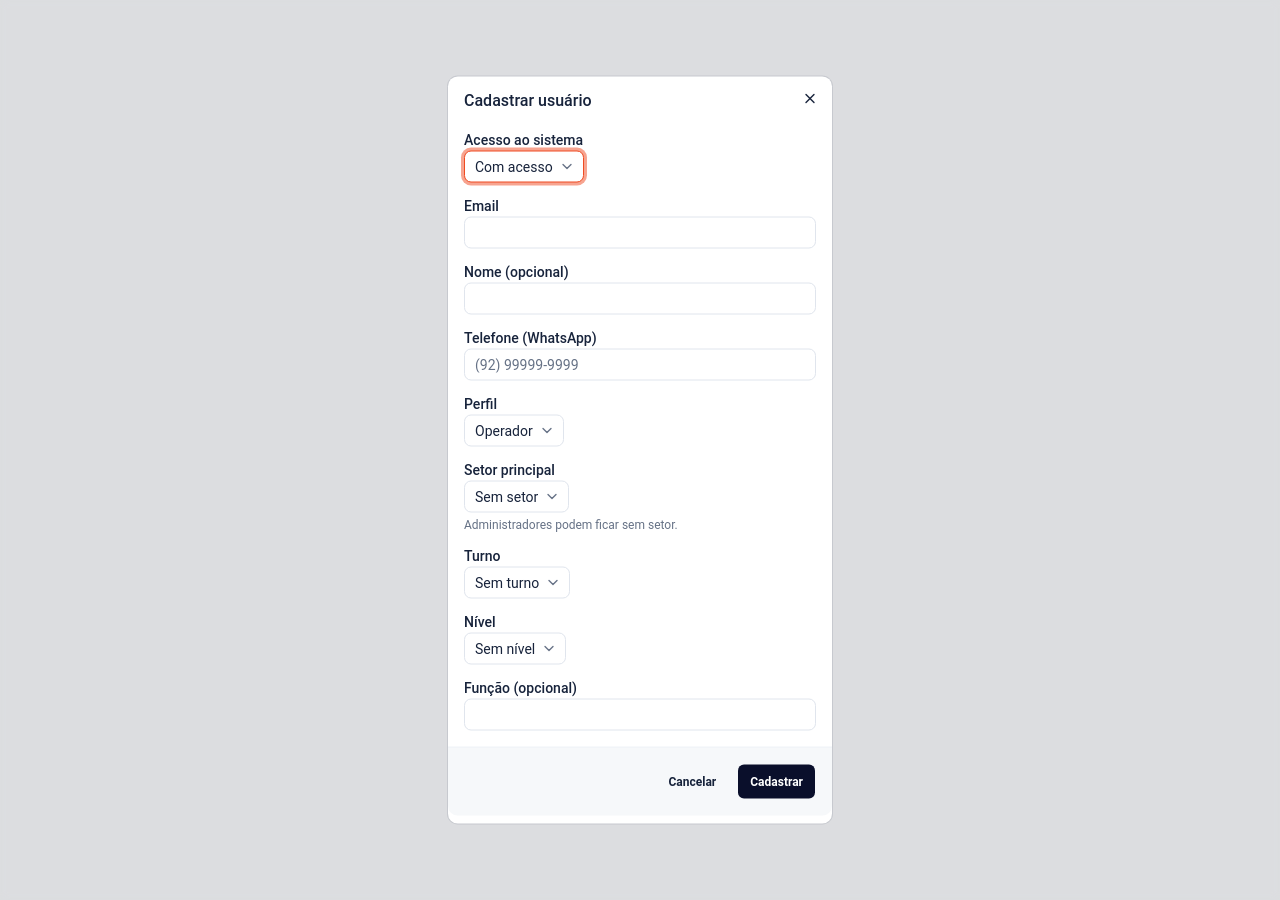
it: InviteUserDialog phone › shows phone_taken next to the phone field
This screenshot has width=1280, height=900.
Type "admin@x.com" into the field labelled "Email". click: (640, 232)
box: [464,216,816,248]
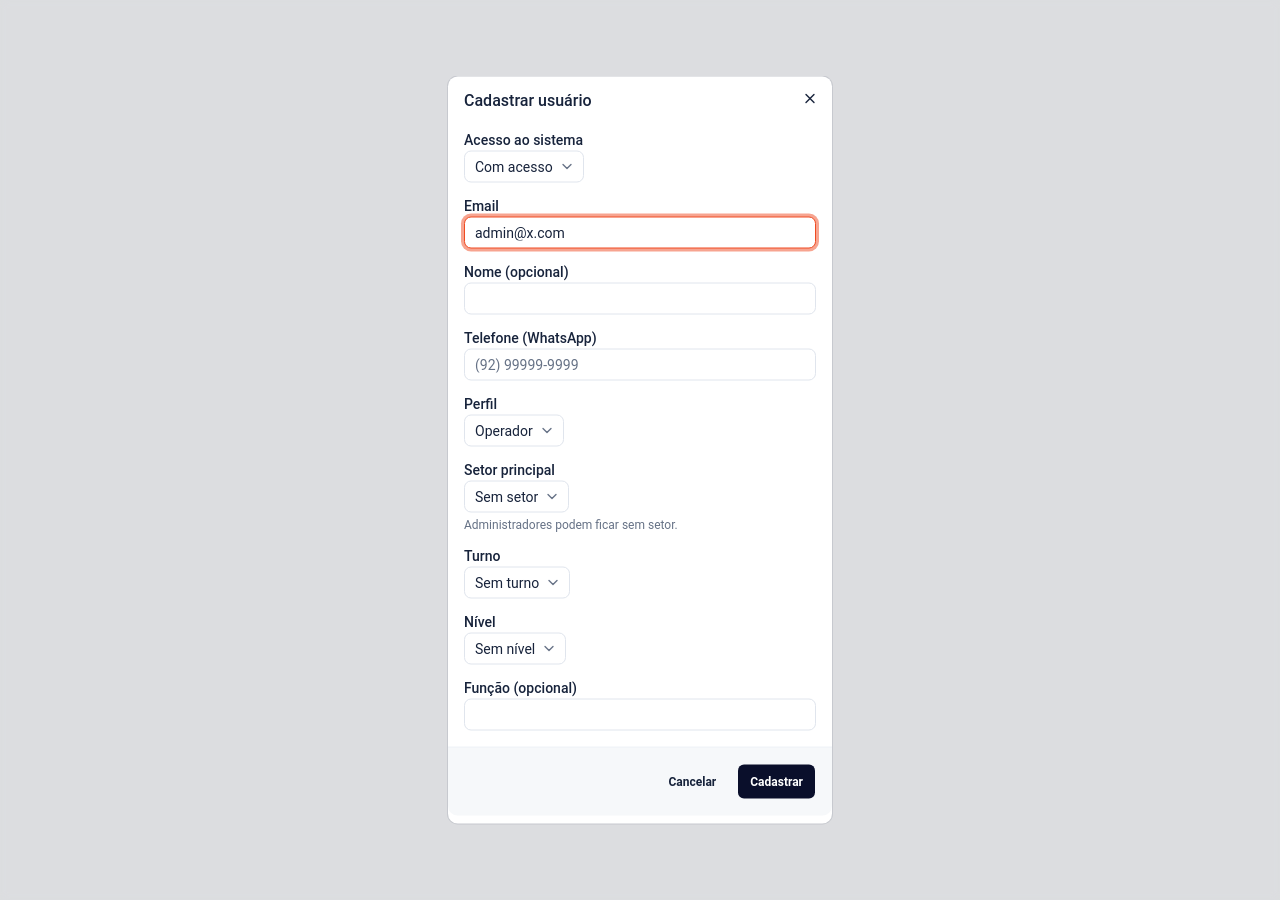
Type "92 99123-4567" into the field labelled "Telefone (WhatsApp)". click: (640, 364)
box: [464,348,816,380]
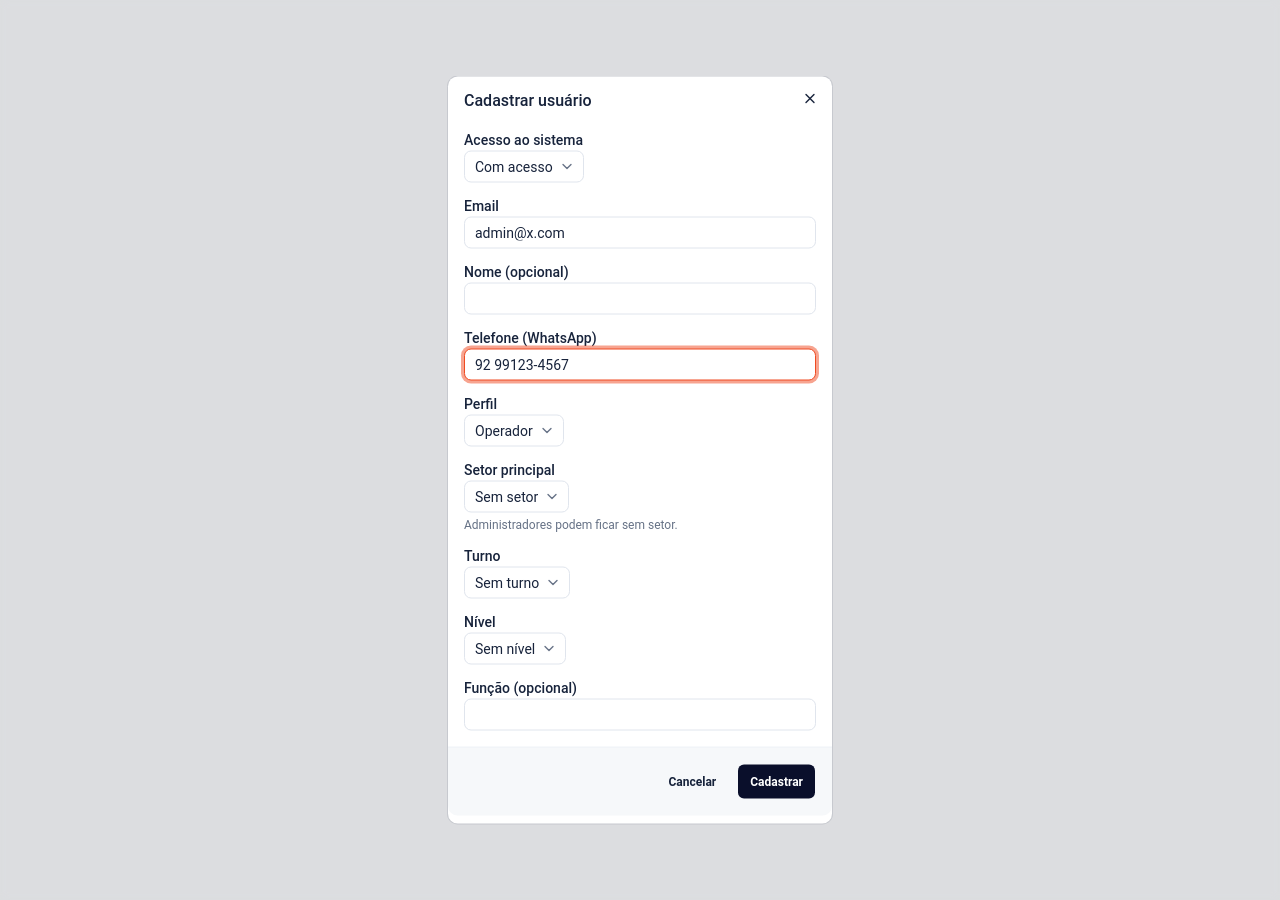
Click the dropdown named "Perfil". click: (514, 430)
box: [464,414,564,446]
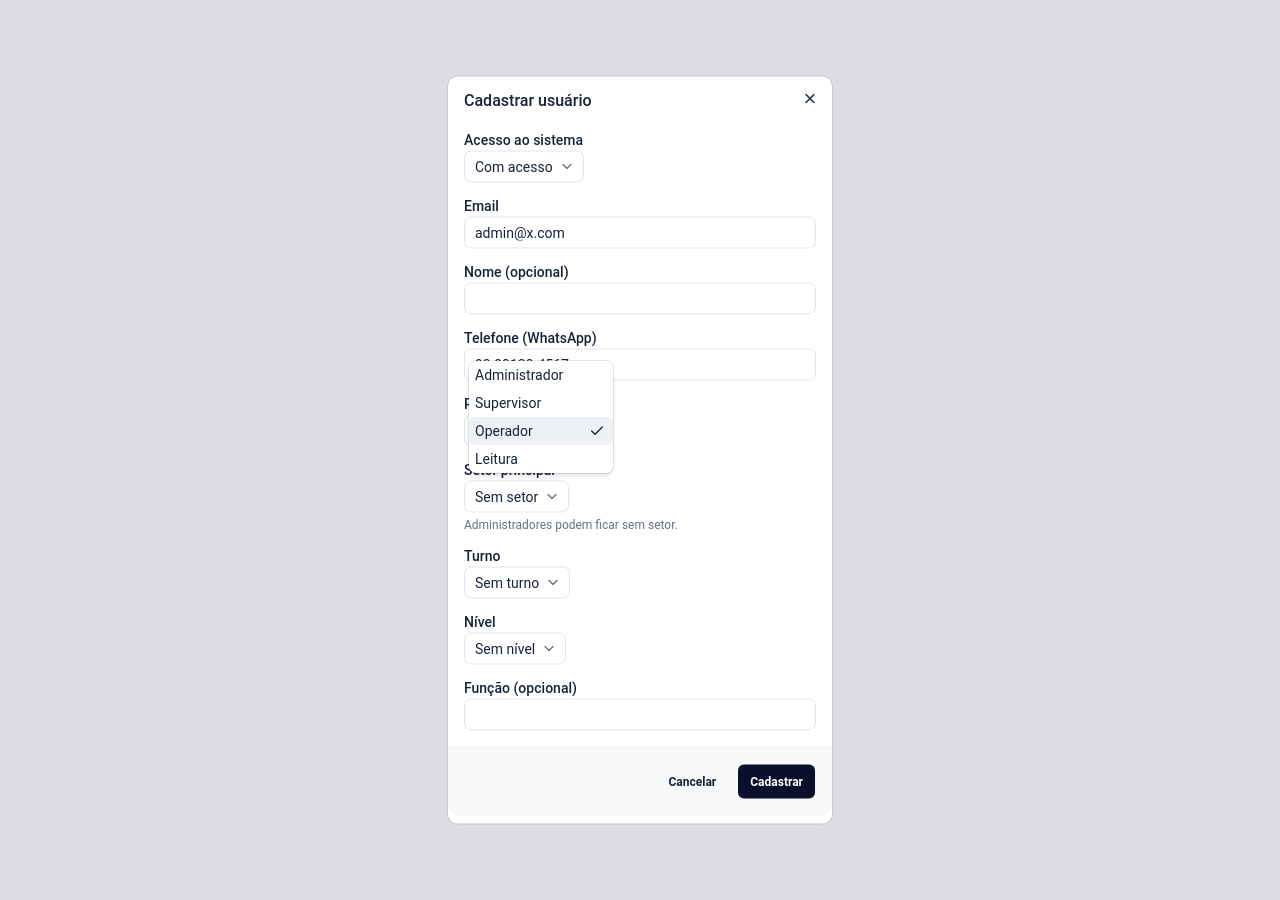
Click the option "Administrador". click: (519, 374)
box: [475,366,563,382]
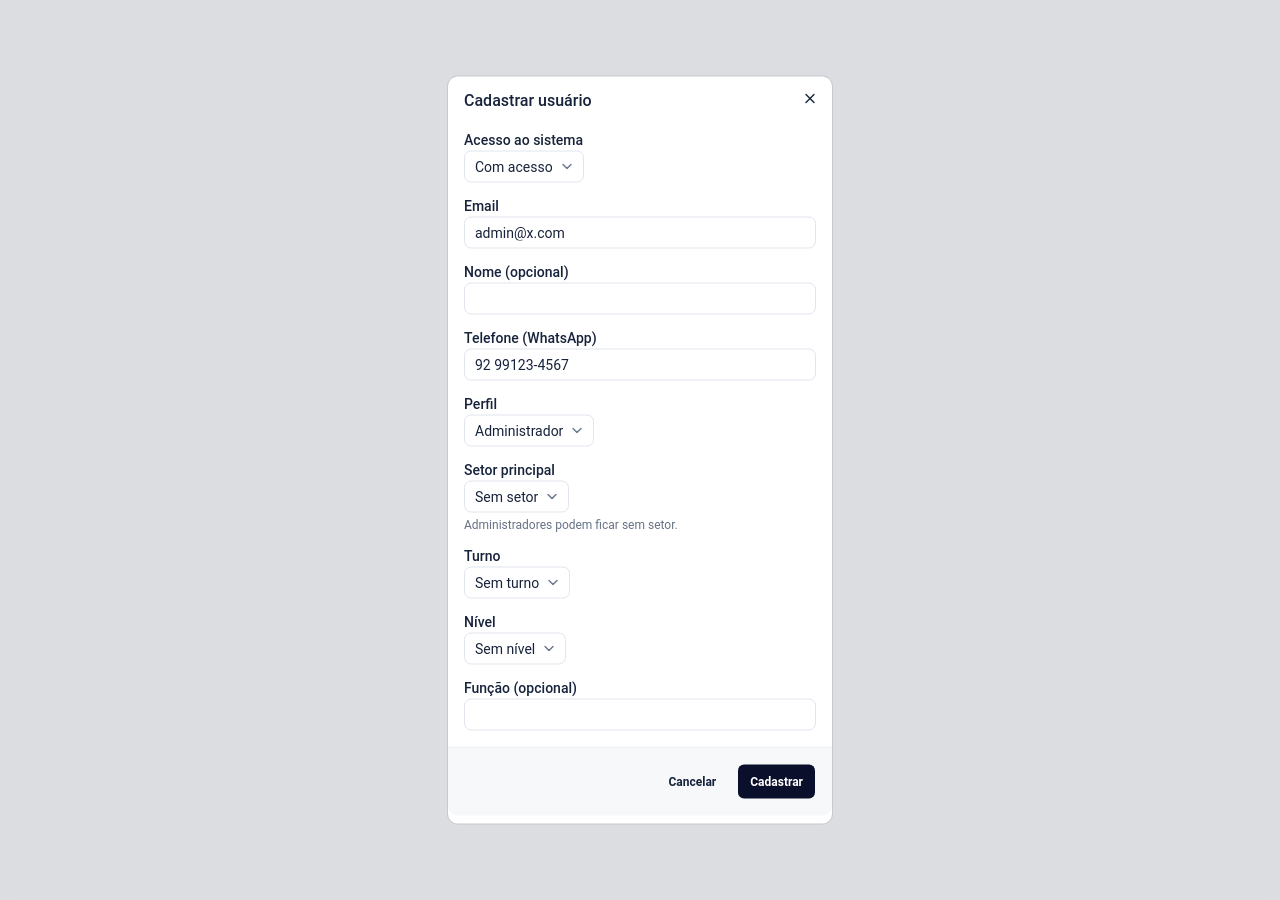
Click the button "Cadastrar". click: (777, 782)
box: [737,764,816,800]
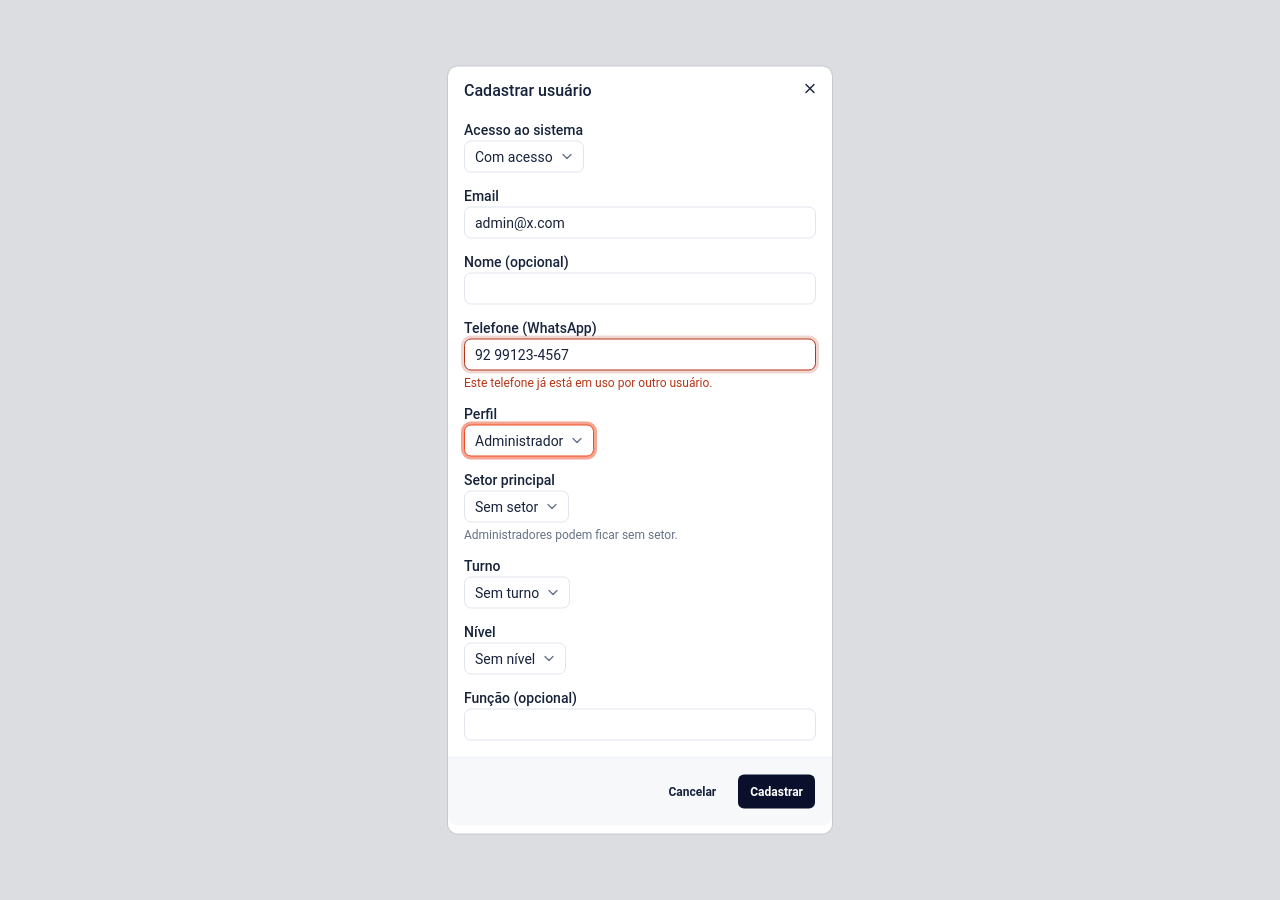
Now the text "Este telefone já está em uso por outro usuário." is shown, box [464,376,712,390]
